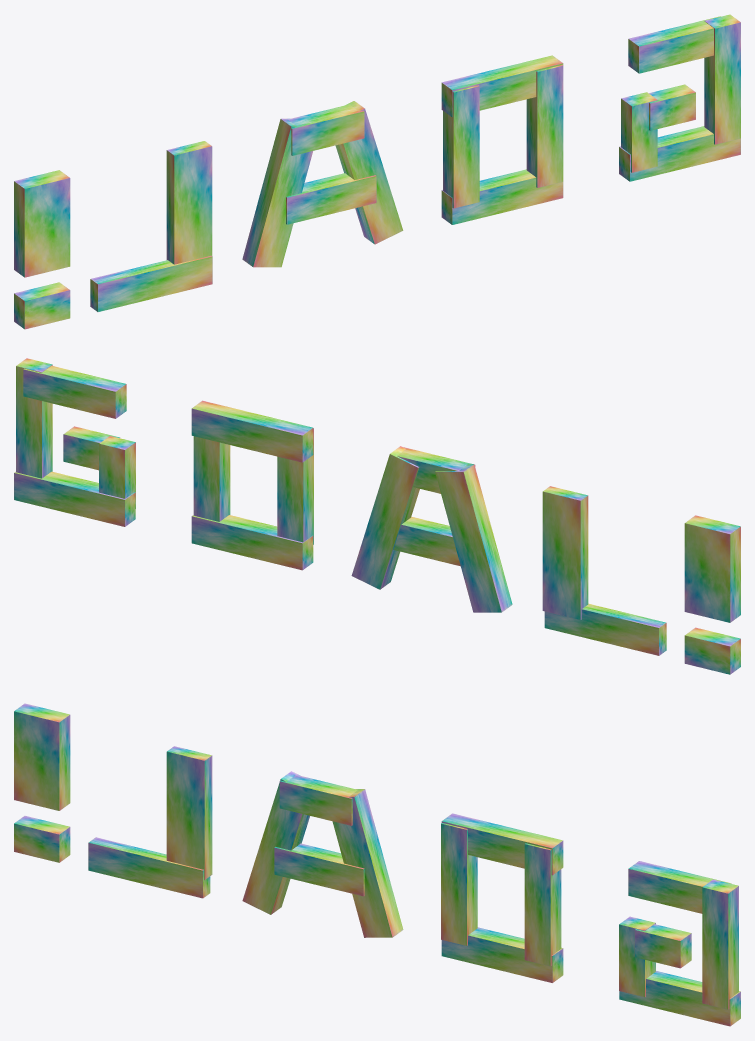
The model's file is Goal2.fbx.
The picture shows the model from 3 angles, top to bottom: view 1: azimuth 30°, elevation 25°; view 2: azimuth 150°, elevation 25°; view 3: azimuth 330°, elevation 25°; orthographic projection.
Parts seen in each view (by area): view 1: goal2; view 2: goal2; view 3: goal2.
Part boxes in pixels (x1,y1,x2,y2): goal2: (14,14,740,329); goal2: (14,358,740,674); goal2: (14,703,740,1026).
Size of the model in its own units: 5201 by 983 by 165.
